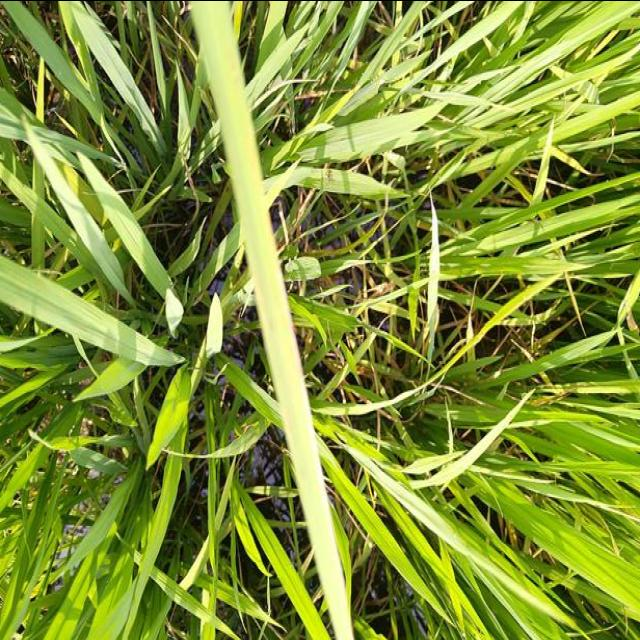Leaf Streak: (193, 0, 353, 640)
